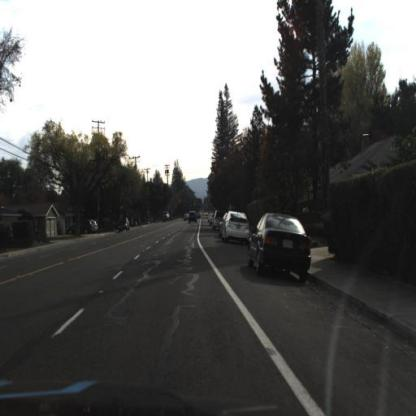car: (245, 208, 318, 283), (219, 209, 250, 243), (222, 210, 251, 246), (68, 219, 99, 236), (117, 217, 131, 233)
